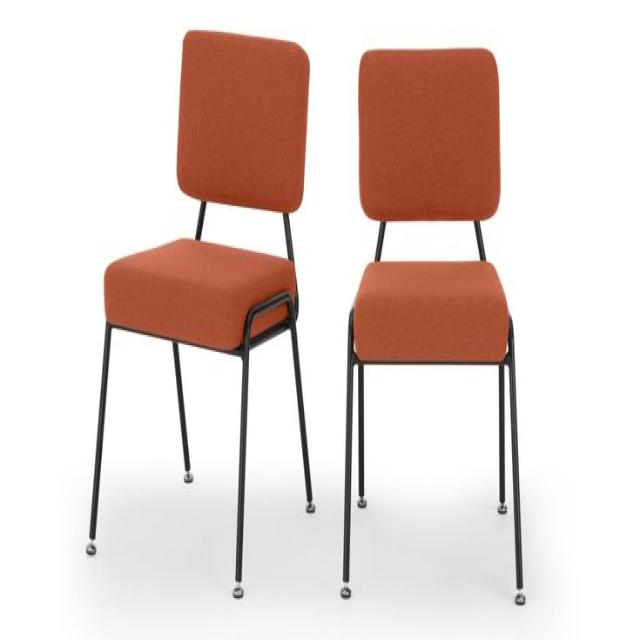obstacle: (86, 27, 316, 598), (340, 45, 525, 605)
